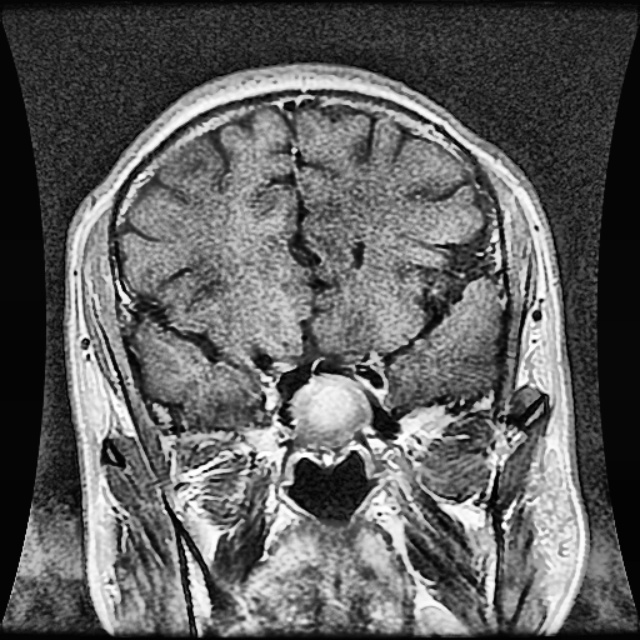Pituitary: (289, 372, 373, 449)
